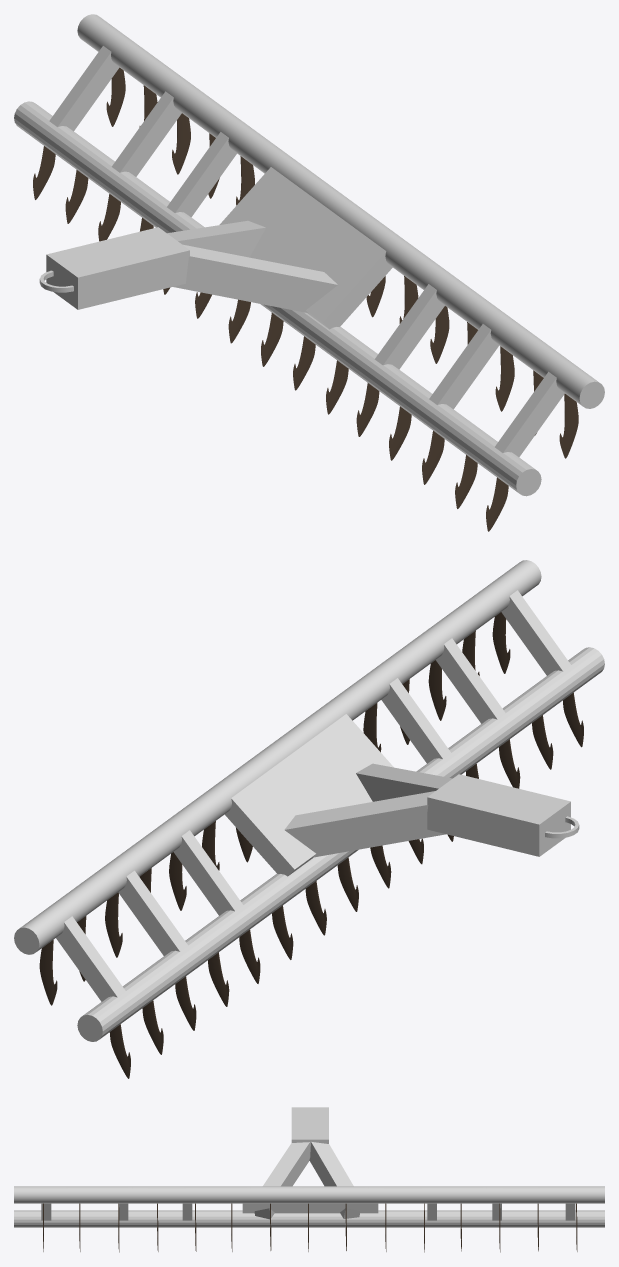
3 views of the same model, one above another, from view 1: azimuth 30°, elevation 25°; view 2: azimuth 150°, elevation 25°; view 3: azimuth 270°, elevation 25° (orthographic). The views are drawn at different scales.
Visible parts, largest first — view 1: Cylinder002, Box001, default001, default003, default013, default015; view 2: Cylinder002, Box001, default013, default015, default001; view 3: Cylinder002, Box001.
Boxes of the visible parts, x1=… form: Cylinder002: x1=14, y1=14, x2=604, y2=496; Box001: x1=39, y1=227, x2=189, y2=309; default001: x1=559, y1=394, x2=578, y2=458; default003: x1=495, y1=346, x2=514, y2=411; default013: x1=172, y1=113, x2=190, y2=174; default015: x1=106, y1=67, x2=125, y2=126; Cylinder002: x1=14, y1=560, x2=604, y2=1041; Box001: x1=427, y1=774, x2=579, y2=856; default013: x1=105, y1=892, x2=122, y2=957; default015: x1=39, y1=940, x2=57, y2=1005; default001: x1=492, y1=612, x2=510, y2=673; Cylinder002: x1=14, y1=1142, x2=604, y2=1227; Box001: x1=291, y1=1107, x2=328, y2=1158.
Bounding box in the file's own units: 55.5 × 25.43 × 155.
